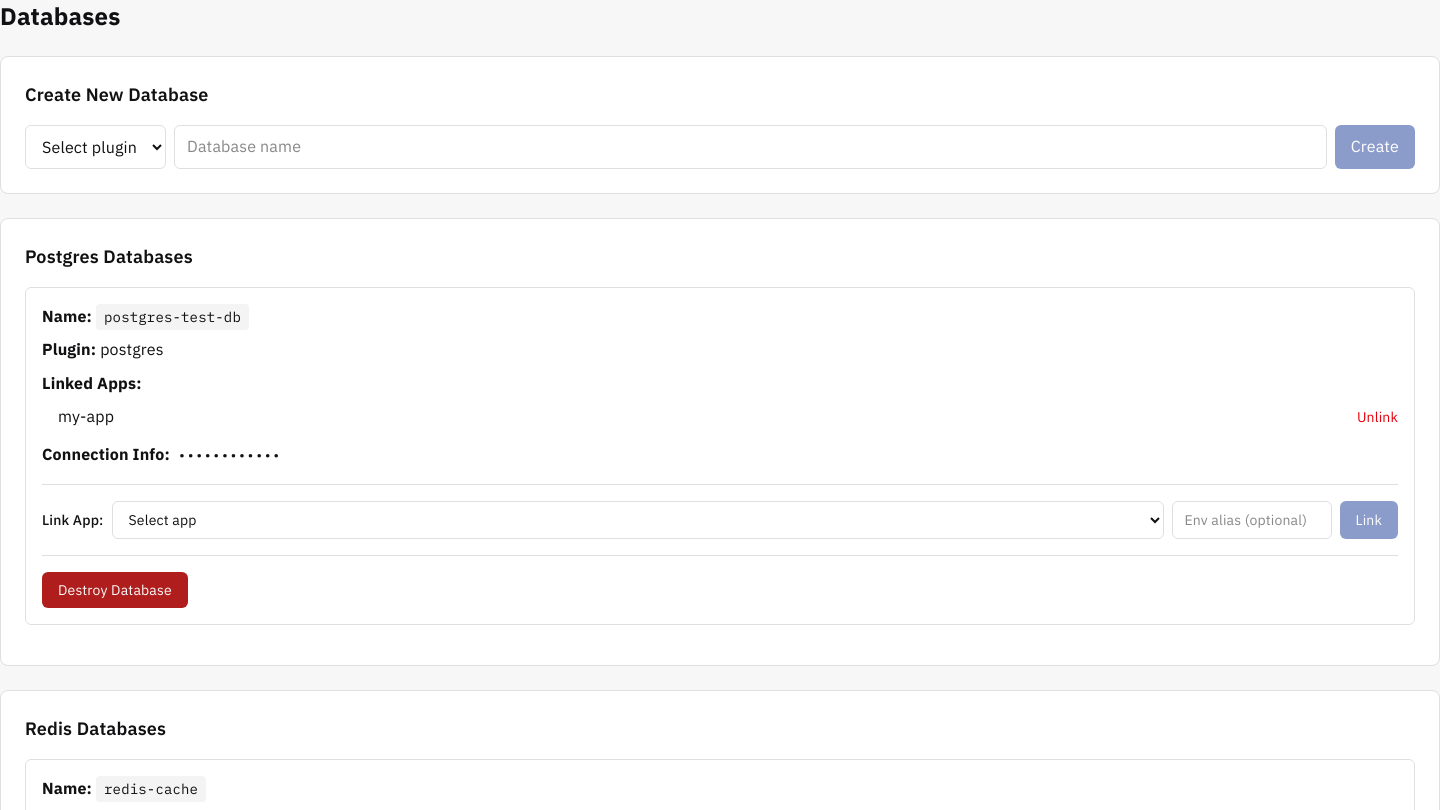
it: Databases › should open unlink confirmation dialog
The width and height of the screenshot is (1440, 810).
Expected: the text "my-app" is shown, [58,404,114,430]
Click the button "Unlink" at (1378,417), box [1357,407,1398,427]
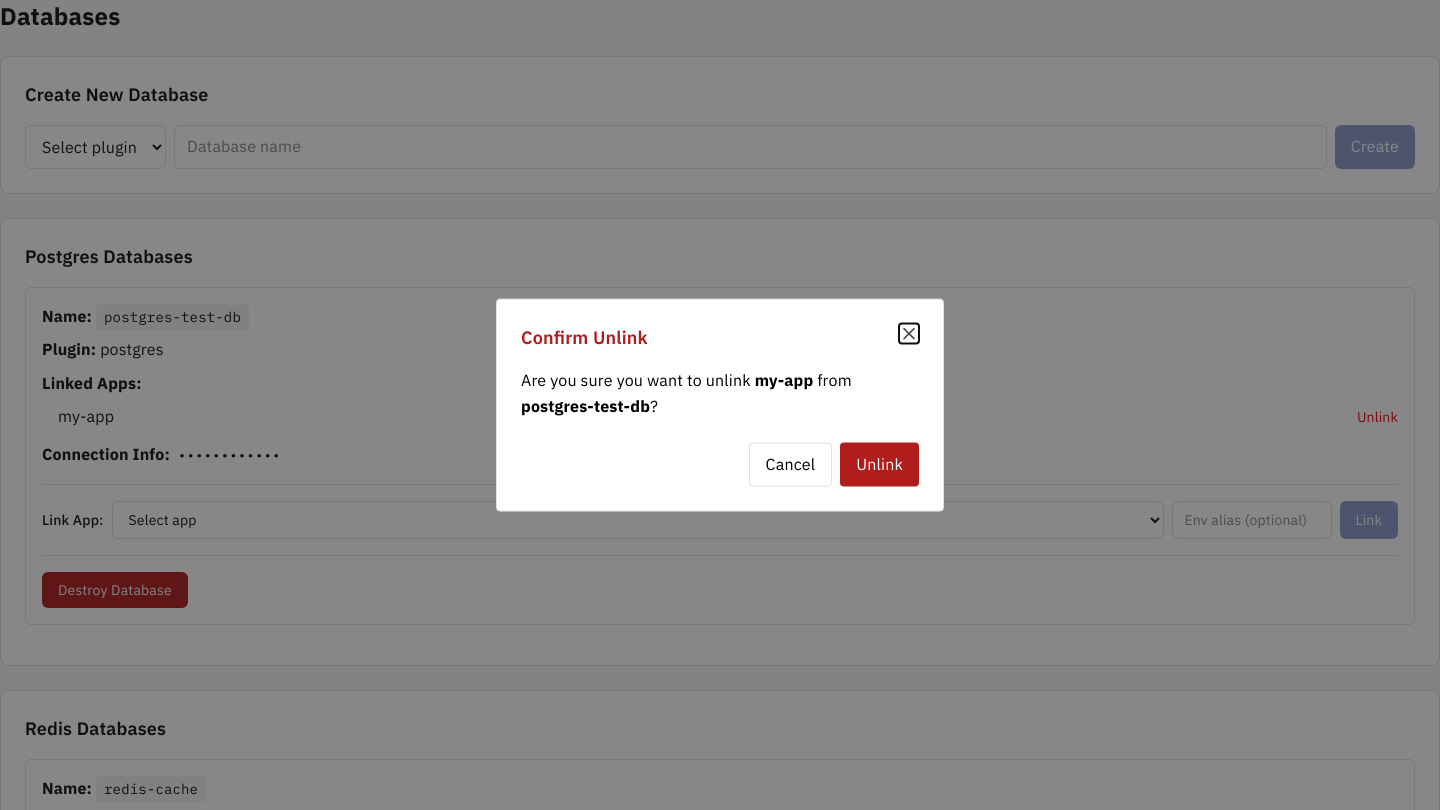
Now the heading "Confirm Unlink" is shown, box [521,324,648,352]
